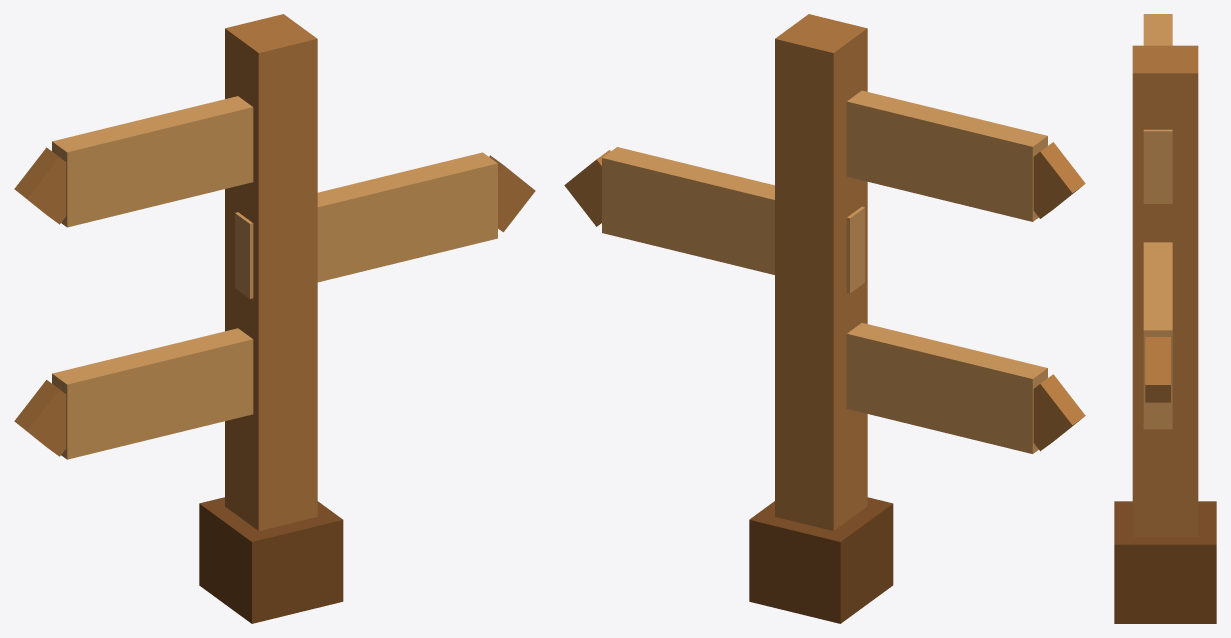
The model's file is prop-signpost.glb.
The picture shows the model from 3 angles, left to right: view 1: azimuth 30°, elevation 25°; view 2: azimuth 150°, elevation 25°; view 3: azimuth 270°, elevation 25°; orthographic projection. The views are drawn at different scales.
Parts seen in each view (by area): view 1: Post, Sign.001, Sign.002, Sign, Base, Tip, Tip.002, Tip.001; view 2: Post, Sign.002, Sign, Sign.001, Base, Tip.002, Tip, Tip.001; view 3: Post, Base, Sign, Sign.001, Tip.001, Sign.002.
Part boxes in pixels (x1,y1,x2,y2): Post: [225, 14, 317, 530]; Sign.001: [235, 152, 497, 298]; Sign.002: [52, 328, 253, 459]; Sign: [52, 96, 253, 227]; Base: [199, 497, 343, 623]; Tip: [14, 147, 66, 224]; Tip.002: [14, 380, 66, 456]; Tip.001: [489, 155, 535, 232]; Post: [775, 14, 867, 530]; Sign.002: [846, 323, 1047, 453]; Sign: [846, 90, 1047, 221]; Sign.001: [602, 147, 864, 293]; Base: [749, 497, 893, 623]; Tip.002: [1033, 374, 1085, 451]; Tip: [1033, 142, 1085, 218]; Tip.001: [564, 150, 610, 226]; Post: [1132, 45, 1198, 536]; Base: [1114, 501, 1216, 623]; Sign: [1143, 14, 1172, 203]; Sign.001: [1143, 242, 1172, 402]; Tip.001: [1145, 337, 1170, 402]; Sign.002: [1143, 403, 1172, 429].
Size of the model in its own units: 1.56 by 1.64 by 0.28.
